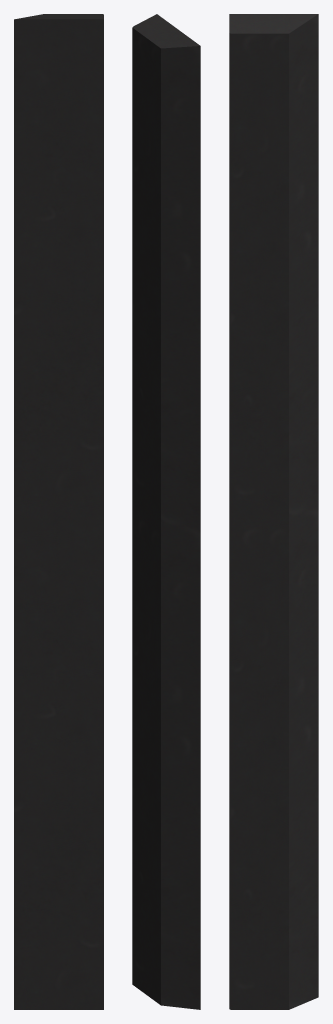
Rendered from A13.1.1 H.WALL. PNL 5484 ICR.D.fbx.
The picture shows the model from 3 angles, left to right: view 1: azimuth 90°, elevation 25°; view 2: azimuth 210°, elevation 25°; view 3: azimuth 270°, elevation 25°; orthographic projection. The views are drawn at different scales.
Parts seen in each view (by area): view 1: Model; view 2: Model; view 3: Model.
Boxes of the visible parts, x1=… form: Model: x1=14, y1=14, x2=103, y2=1009; Model: x1=132, y1=14, x2=200, y2=1009; Model: x1=229, y1=14, x2=318, y2=1009.
Size of the model in its own units: 150 by 5484 by 450.
